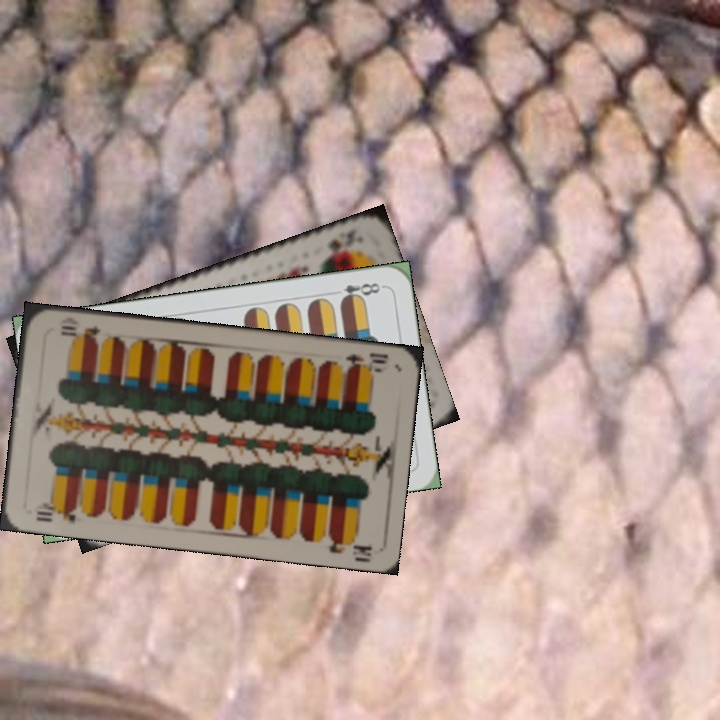E10: (341, 349, 390, 376), (29, 499, 79, 525)
E8: (336, 279, 386, 305)
SK: (319, 228, 354, 261)
